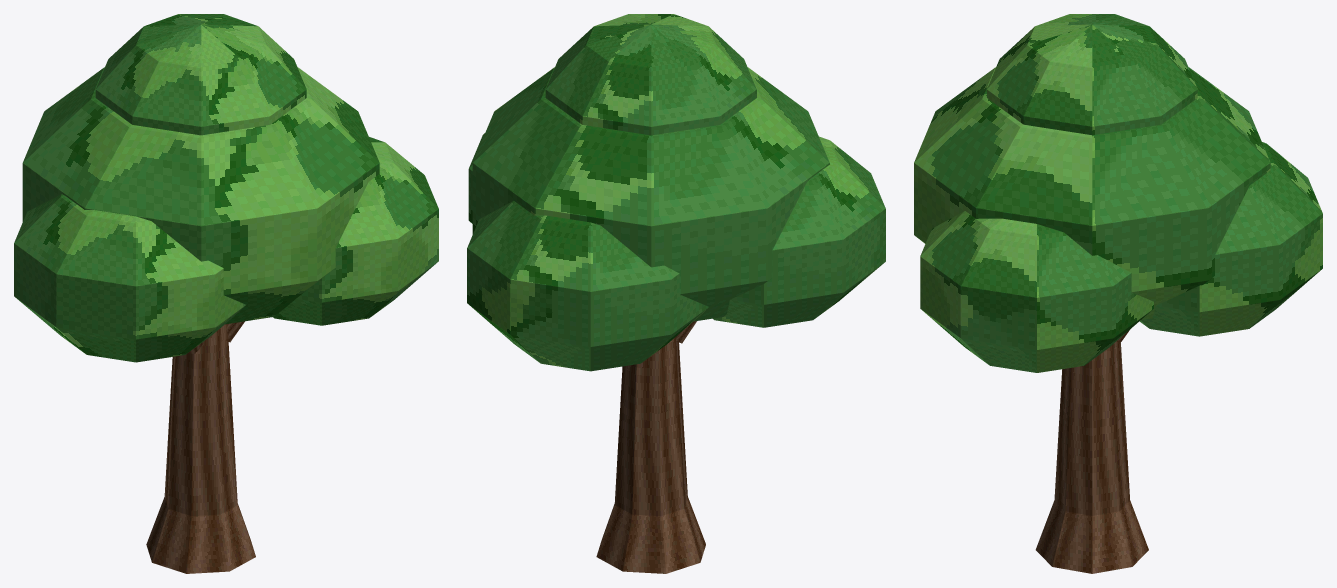
File: arvore_floresta.glb
3 renders of one model, left to right at view 1: azimuth 30°, elevation 25°; view 2: azimuth 150°, elevation 25°; view 3: azimuth 270°, elevation 25°, orthographic.
Parts seen in each view (by area): view 1: arvore_floresta; view 2: arvore_floresta; view 3: arvore_floresta.
Part boxes in pixels (left/top/right/bottom): arvore_floresta: left=14, top=14, right=438, bottom=573; arvore_floresta: left=467, top=14, right=885, bottom=573; arvore_floresta: left=914, top=14, right=1322, bottom=573.
Bounding box in the file's own units: 3.1 × 4.05 × 2.85.
Materials: 1 (1 with a texture image).
